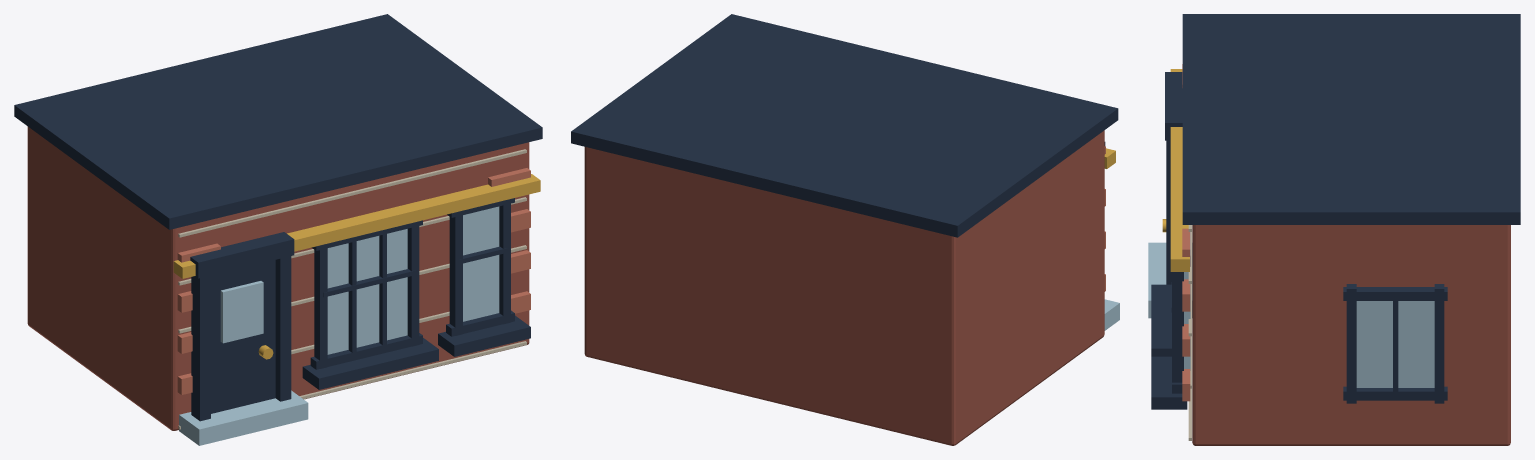
File: floor_works_2.glb
3 renders of one model, left to right at view 1: azimuth 30°, elevation 25°; view 2: azimuth 150°, elevation 25°; view 3: azimuth 270°, elevation 25°, orthographic. The views are drawn at different scales.
Parts seen in each view (by area): view 1: floor_works_2 ink, floor_works_2 brick, floor_works_2 glass, floor_works_2 ochre, floor_works_2 mortar, floor_works_2 mist, floor_works_2 clay; view 2: floor_works_2 brick, floor_works_2 ink; view 3: floor_works_2 ink, floor_works_2 brick, floor_works_2 glass, floor_works_2 ochre, floor_works_2 clay, floor_works_2 mist, floor_works_2 mortar.
Part boxes in pixels (left/top/right/bottom): floor_works_2 ink: left=14, top=14, right=542, bottom=421; floor_works_2 brick: left=27, top=126, right=529, bottom=430; floor_works_2 glass: left=220, top=206, right=499, bottom=354; floor_works_2 ochre: left=173, top=174, right=540, bottom=359; floor_works_2 mortar: left=178, top=149, right=526, bottom=429; floor_works_2 mist: left=179, top=390, right=308, bottom=445; floor_works_2 clay: left=177, top=168, right=530, bottom=394; floor_works_2 brick: left=584, top=130, right=1104, bottom=445; floor_works_2 ink: left=571, top=14, right=1118, bottom=237; floor_works_2 ink: left=1151, top=14, right=1520, bottom=409; floor_works_2 brick: left=1192, top=225, right=1510, bottom=445; floor_works_2 glass: left=1184, top=232, right=1434, bottom=387; floor_works_2 ochre: left=1162, top=69, right=1189, bottom=271; floor_works_2 clay: left=1182, top=64, right=1190, bottom=401; floor_works_2 mist: left=1148, top=242, right=1192, bottom=318; floor_works_2 mortar: left=1188, top=225, right=1191, bottom=440.
Bounding box in the file's own units: 0.8745 × 0.48 × 0.6775.
